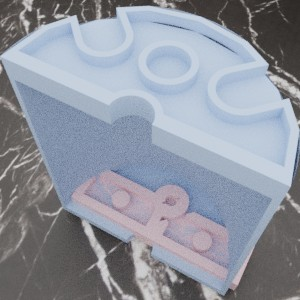lego: (0, 5, 300, 295), (70, 163, 256, 290)
